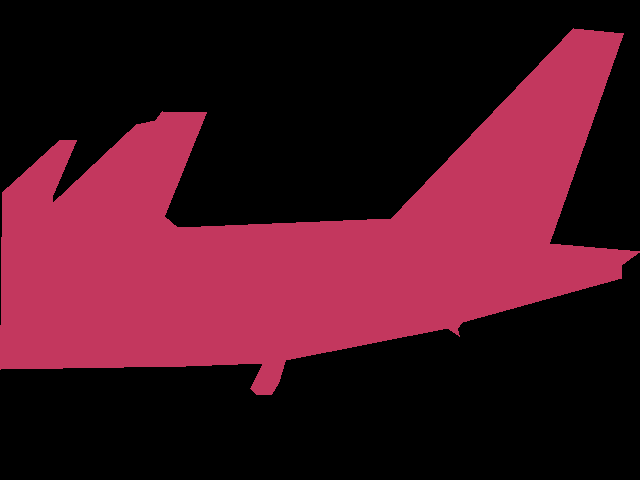Airplane: (0, 28, 640, 394)
